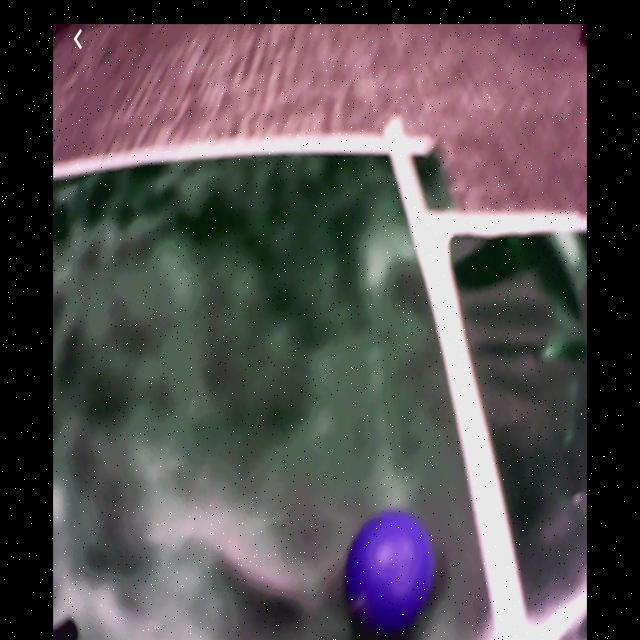ball: (347, 514, 434, 627)
